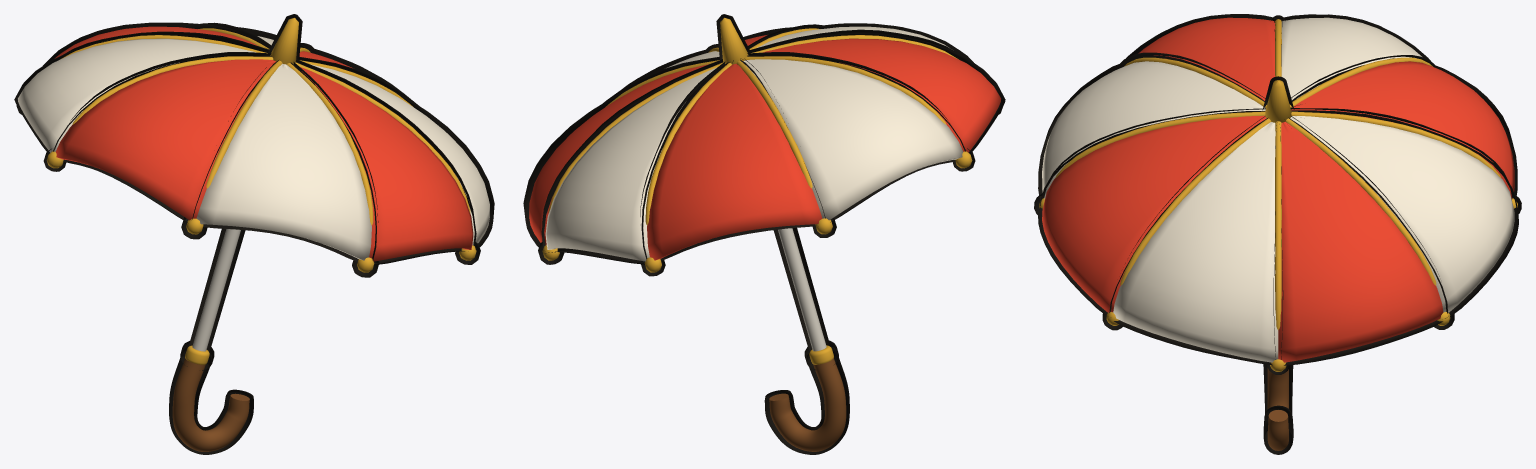
Rendered from umbrella.glb.
3 renders of one model, left to right at view 1: azimuth 30°, elevation 25°; view 2: azimuth 150°, elevation 25°; view 3: azimuth 270°, elevation 25°, orthographic.
Visible parts, largest first — view 1: Umbrella, Umbrella_outline; view 2: Umbrella, Umbrella_outline; view 3: Umbrella, Umbrella_outline.
Part boxes in pixels (<box>): Umbrella: <box>18,17,489,451</box>; Umbrella_outline: <box>14,14,494,454</box>; Umbrella: <box>529,17,1000,451</box>; Umbrella_outline: <box>523,14,1005,454</box>; Umbrella: <box>1039,17,1517,450</box>; Umbrella_outline: <box>1034,14,1521,454</box>.
Size of the model in its own units: 2.63 by 2.56 by 2.74.
